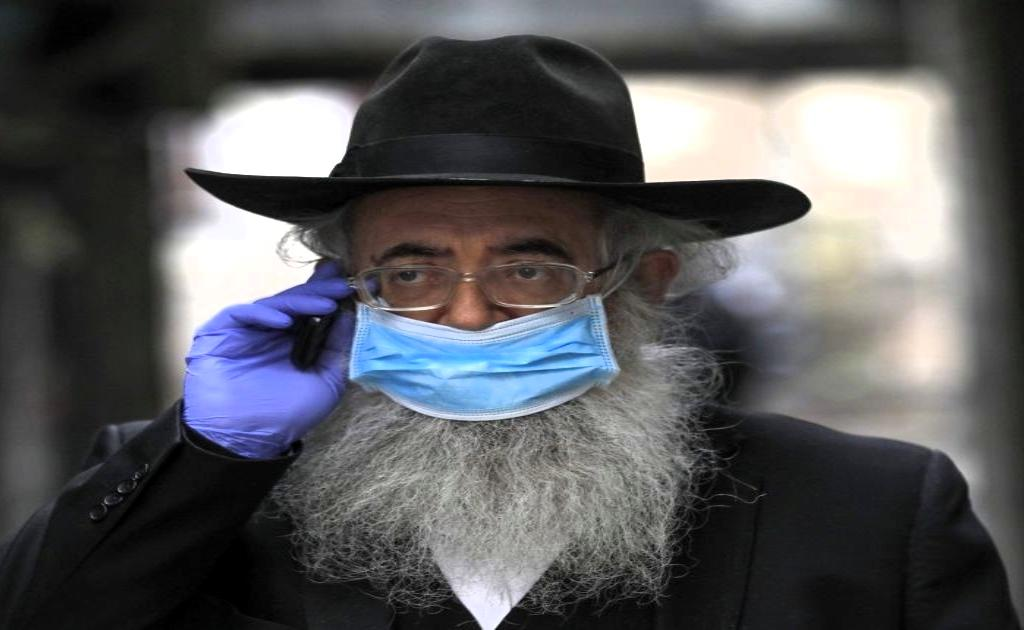mask_weared_incorrect: (325, 192, 674, 427)
